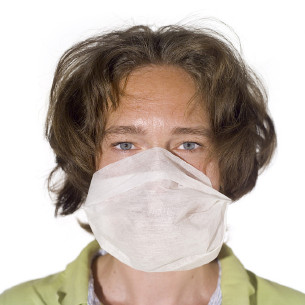face_mask: (89, 69, 223, 269)
